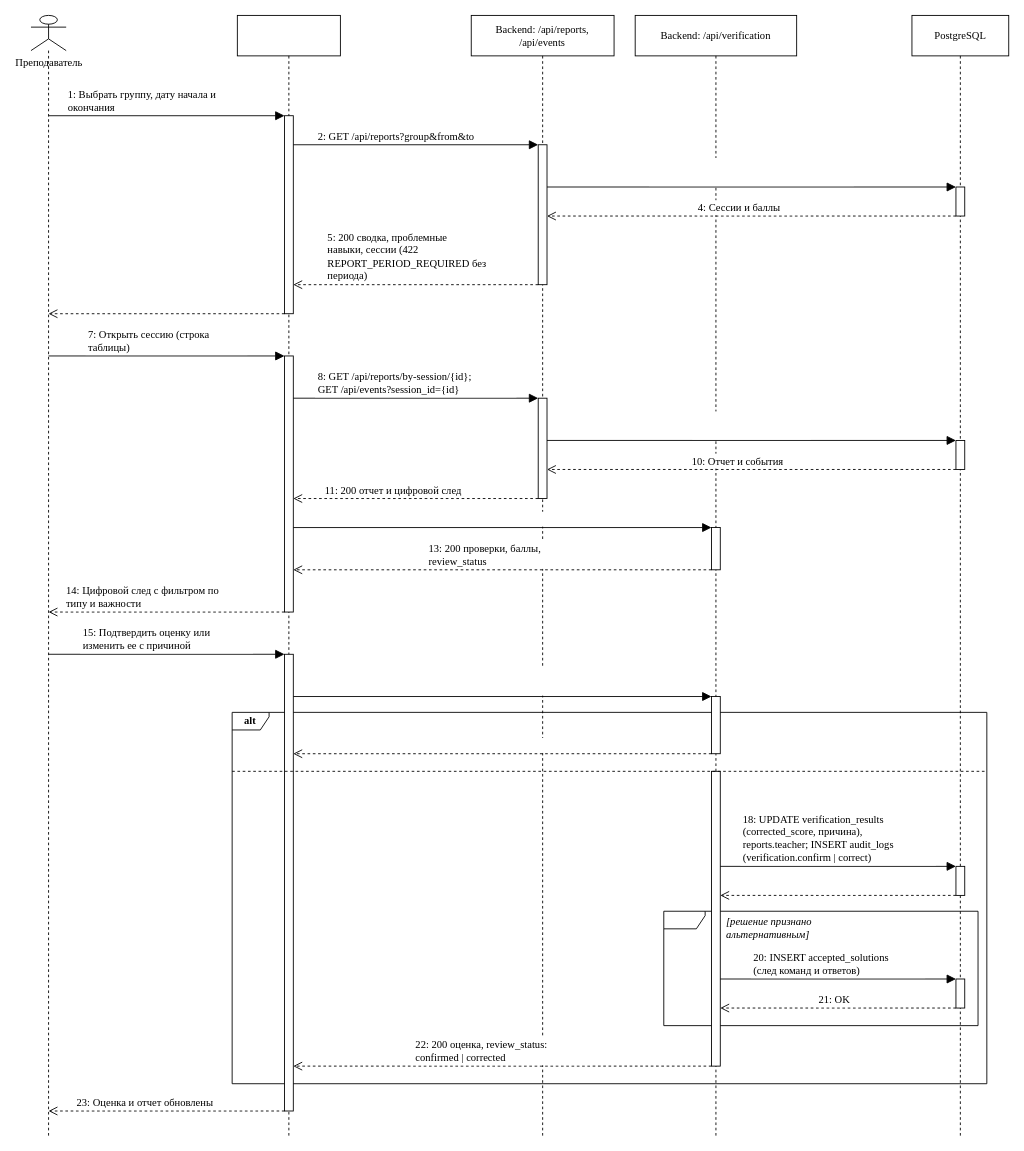
The diagram is 1024 pixels wide and 1151 high, and some of its shapes have lost their labels. The shapes that lost their labels are listed below. From the top down, each one's box as (x1, y1, x2, y2) in pixels, then its label:
(649, 158, 854, 186): 3: SELECT sessions, users, verification_results, hints за период
(112, 297, 220, 312): 6: Панель группы
(692, 411, 810, 439): 9: SELECT reports, environment_events
(396, 511, 608, 526): 12: GET /api/verification/{session_id}
(236, 15, 340, 1136): Frontend (SPA)
(390, 667, 614, 695): 16: PATCH /api/verification/{session_id} {score, reason, confirm, alternative}
(296, 715, 520, 730): [изменение без оценки или причины]
(422, 737, 582, 752): 17: 422 VALIDATION_ERROR
(296, 774, 479, 803): [подтверждение или оценка с причиной]
(816, 879, 860, 894): 19: OK
(663, 910, 978, 1026): opt
